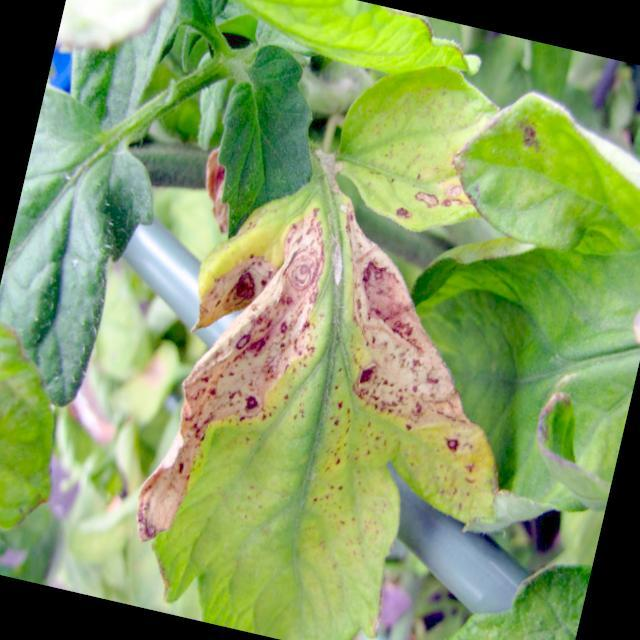Tomato Early blight leaf: (114, 153, 553, 640), (320, 45, 512, 248)
Tomato healthy leaf: (0, 84, 178, 419), (196, 37, 337, 252)
